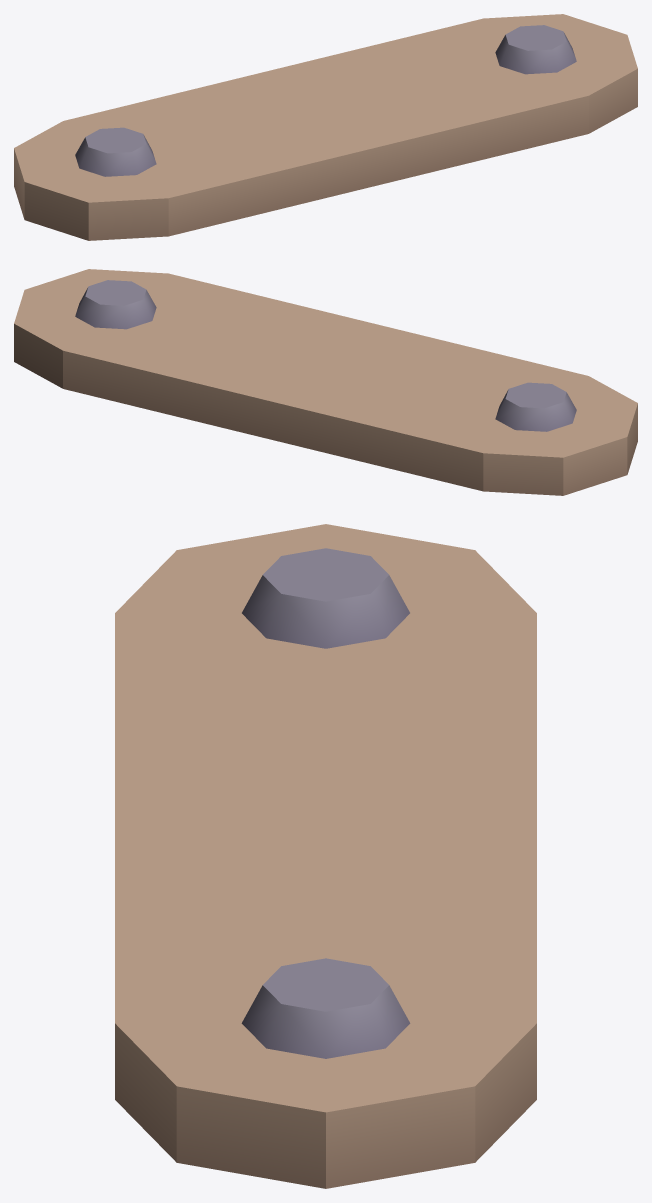
Rendered from handle-strap.glb.
The picture shows the model from 3 angles, top to bottom: view 1: azimuth 30°, elevation 25°; view 2: azimuth 150°, elevation 25°; view 3: azimuth 270°, elevation 25°; orthographic projection. The views are drawn at different scales.
Visible parts, largest first — view 1: handle-strap; view 2: handle-strap; view 3: handle-strap.
Boxes of the visible parts, x1=… form: handle-strap: x1=14, y1=14, x2=637, y2=240; handle-strap: x1=14, y1=269, x2=637, y2=495; handle-strap: x1=115, y1=524, x2=536, y2=1188.
Bounding box in the file's own units: 0.165 × 0.015 × 0.05.
